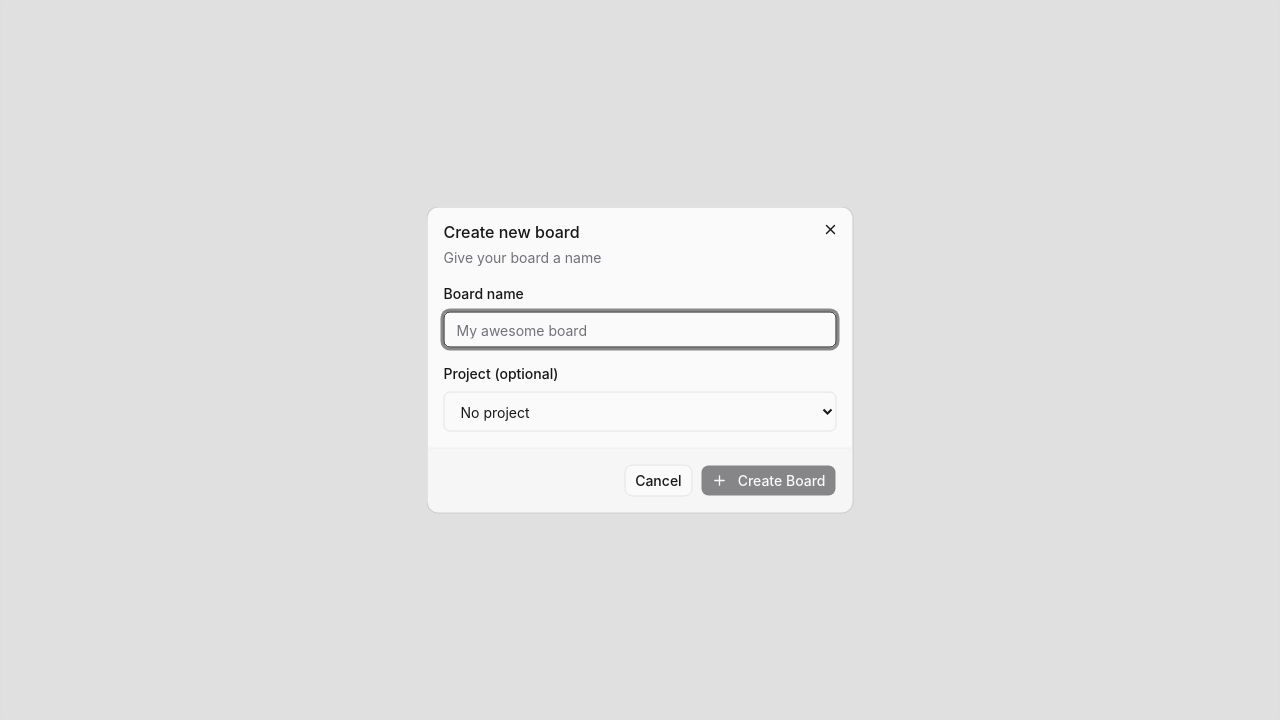
Test case: CreateBoardModal › enables Create Board button when name has content
Type "My Board" into the field labelled "Board name" at [640, 330], box x1=444 y1=312 x2=836 y2=348
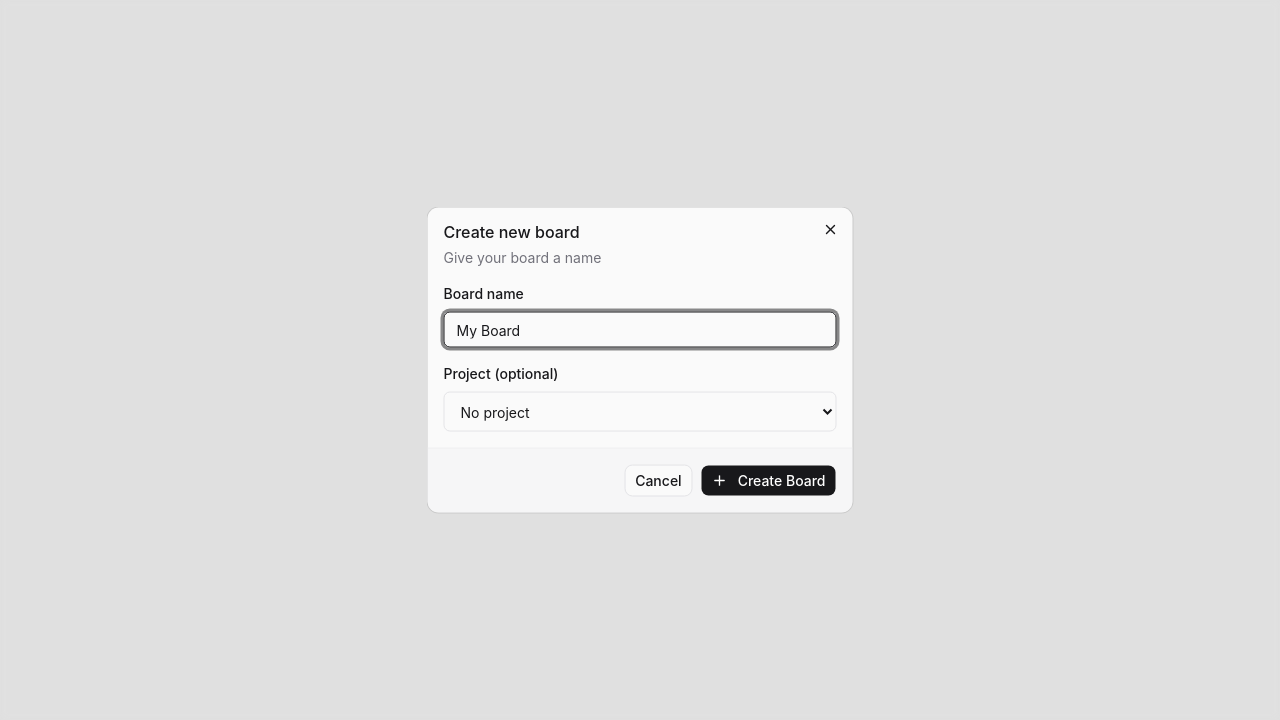
Now the button "Create Board" is enabled, box x1=701 y1=464 x2=836 y2=496
